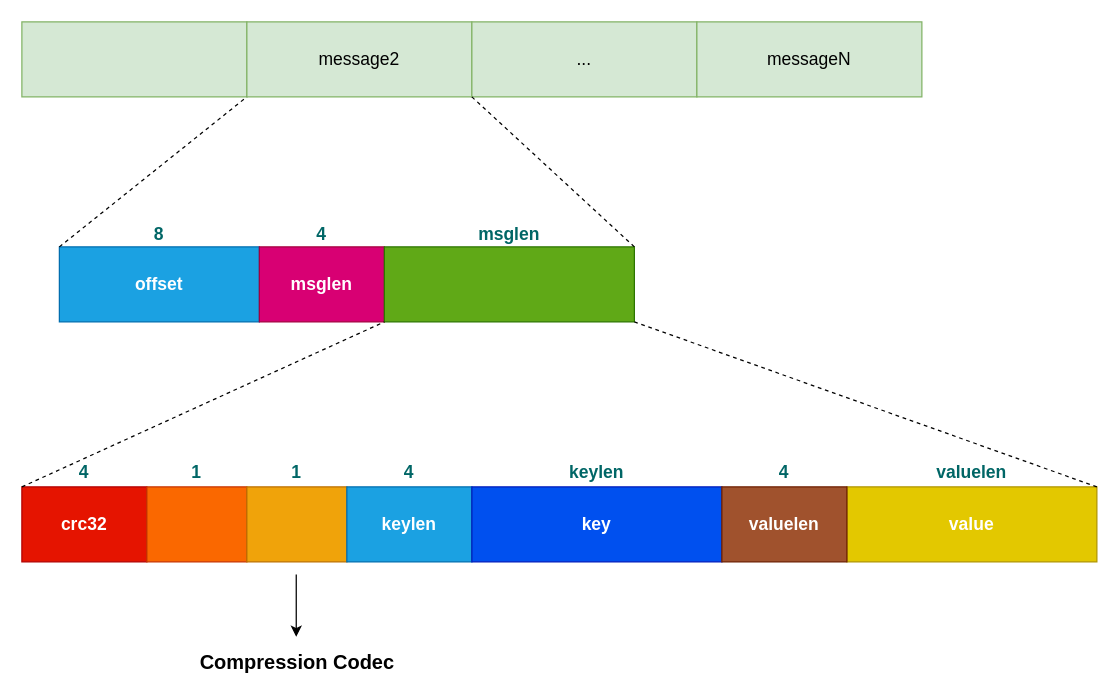
This 1120x696 diagram has some shape labels left out. Each missing label, with the centre of its shape:
"attributes" goes at point 296,524.
"magic" goes at point 196,524.
"message" goes at point 508,284.
"message1" goes at point 134,59.
